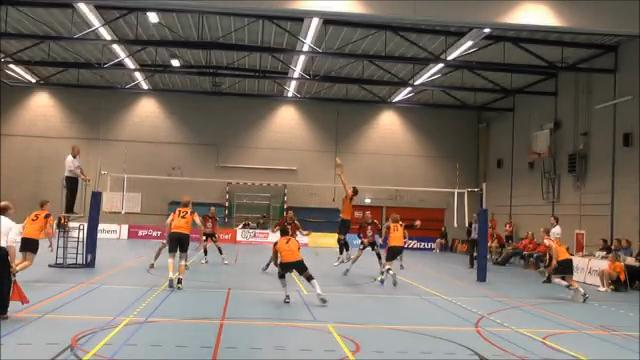alzata: (326, 166, 357, 269)
